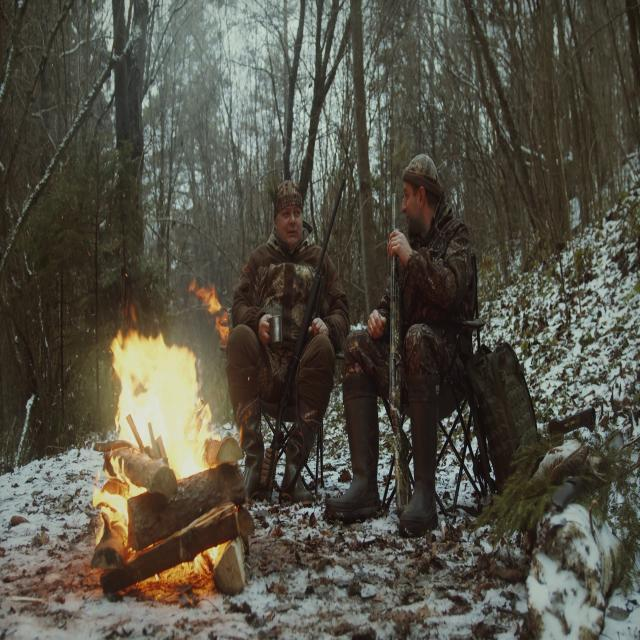Fire: (83, 322, 246, 578)
